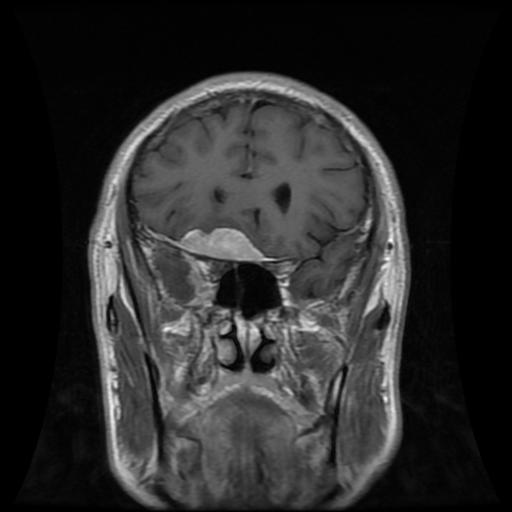Menigiomia_tumour: (177, 227, 264, 259)
